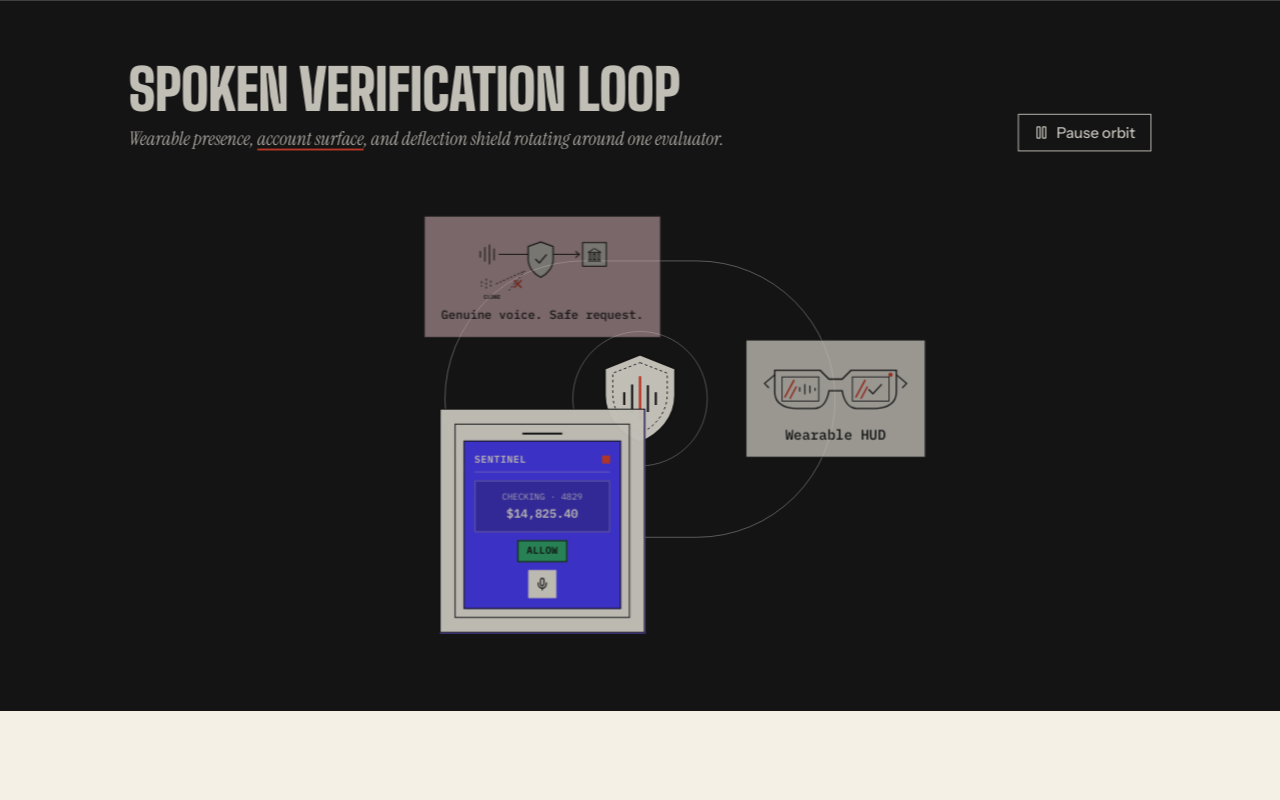
Test: OrbitHero › toggles pause orbit state when Pause orbit button is clicked
The image size is (1280, 800).
Click the button "Pause orbit". click: (1085, 133)
box: [1018, 114, 1151, 151]
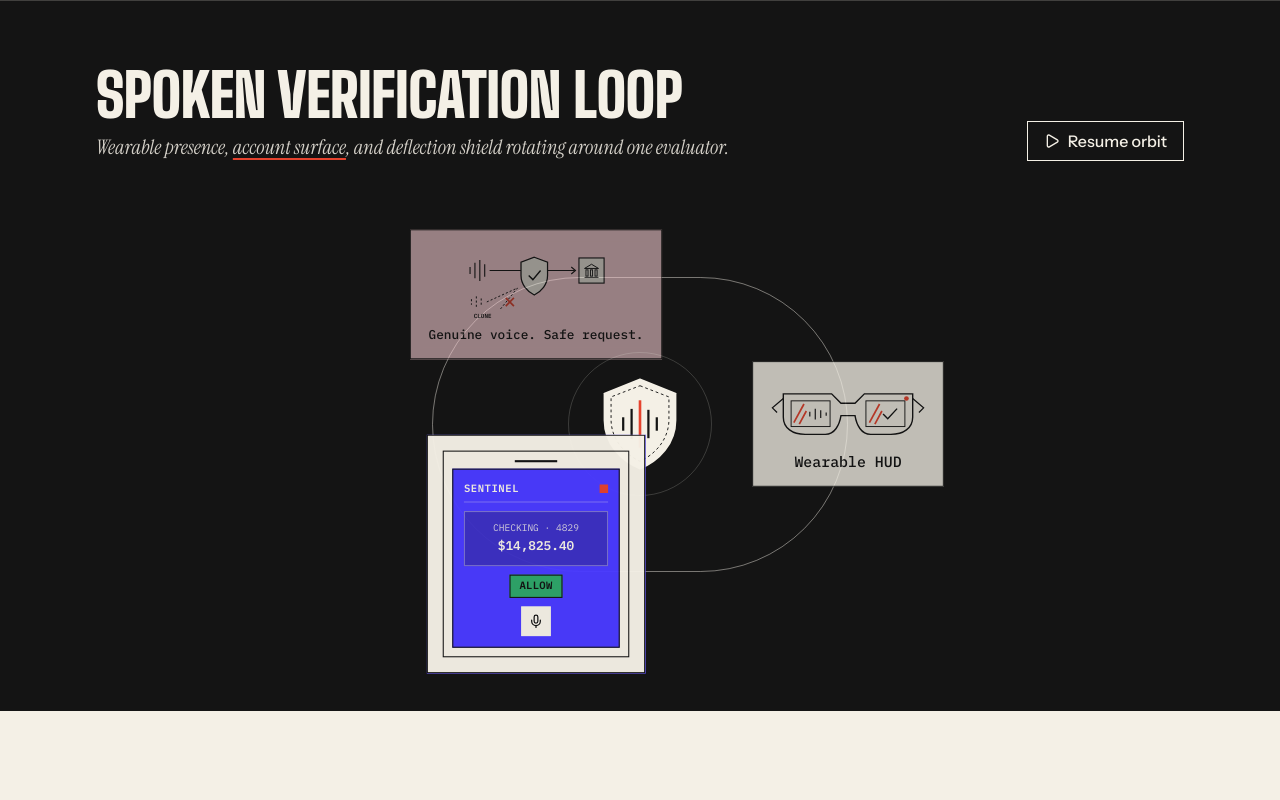
Now the button "Resume orbit" is pressed, box [1027, 121, 1184, 161]
